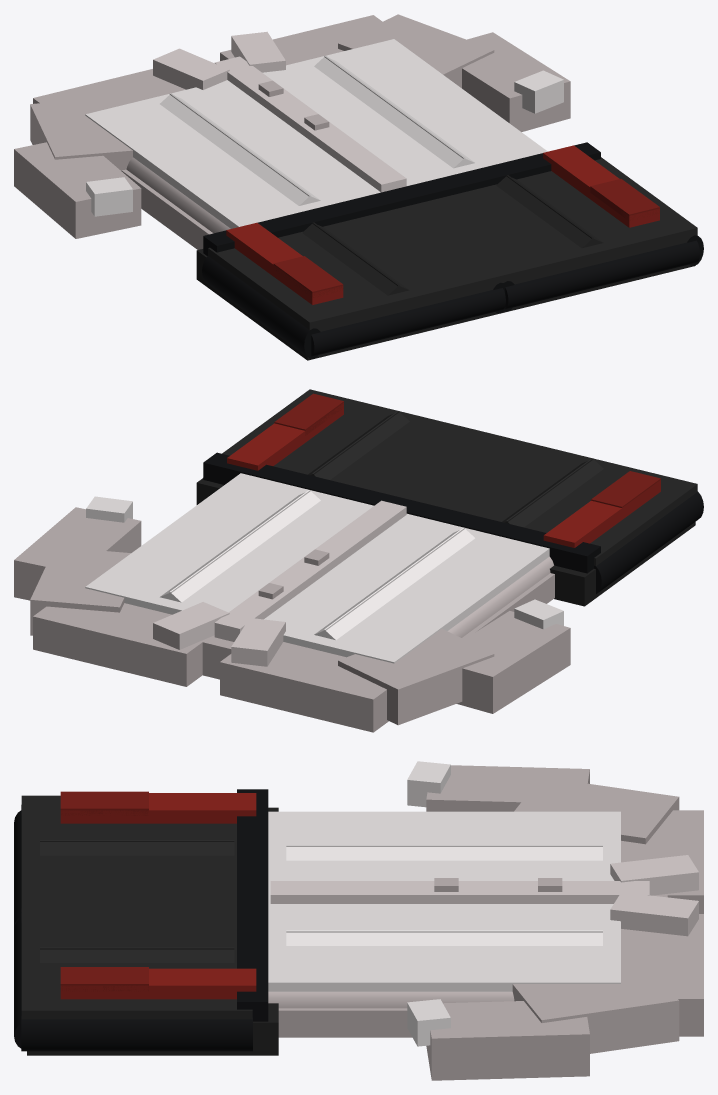
Rendered from CMU3DRMCMarineUniformDressGeneralWorldCloud.glb.
3 views of the same model, one above another, from view 1: azimuth 30°, elevation 25°; view 2: azimuth 150°, elevation 25°; view 3: azimuth 270°, elevation 25° (orthographic). The views are drawn at different scales.
Parts seen in each view (by area): view 1: left white dress shirt front continuous cloth panel, right white dress shirt front continuous cloth panel, left black folded dress trousers continuous cloth panel, right black folded dress trousers continuous cloth panel, left short white sleeve, dress trousers horizontal waist seam, right short white sleeve, white dress shirt center placket, left dress shoulder attachment, left black folded dress trousers lower folded edge, right black folded dress trousers lower folded edge, right dress shoulder attachment (+20 smaller); view 2: left white dress shirt front continuous cloth panel, right white dress shirt front continuous cloth panel, left black folded dress trousers continuous cloth panel, right black folded dress trousers continuous cloth panel, dress left shoulder yoke, dress right shoulder yoke, left short white sleeve, left dress shoulder attachment, dress trousers horizontal waist seam, white dress shirt center placket, right short white sleeve, right dress shoulder attachment (+19 smaller); view 3: right white dress shirt front continuous cloth panel, left white dress shirt front continuous cloth panel, right black folded dress trousers continuous cloth panel, left black folded dress trousers continuous cloth panel, right short white sleeve, right dress shoulder attachment, white dress shirt center placket, right black folded dress trousers right turned edge, dress trousers horizontal waist seam, left dress shoulder attachment, right white dress shirt front right shallow folded fabric, dress right shoulder yoke (+20 smaller).
Part boxes in pixels (<box>): left white dress shirt front continuous cloth panel: <box>85,80,380,228</box>; right white dress shirt front continuous cloth panel: <box>262,39,547,185</box>; left black folded dress trousers continuous cloth panel: <box>208,206,503,331</box>; right black folded dress trousers continuous cloth panel: <box>409,157,697,284</box>; left short white sleeve: <box>14,142,141,238</box>; dress trousers horizontal waist seam: <box>203,142,600,255</box>; right short white sleeve: <box>462,32,570,131</box>; white dress shirt center placket: <box>215,56,406,192</box>; left dress shoulder attachment: <box>30,96,132,170</box>; left black folded dress trousers lower folded edge: <box>311,288,505,356</box>; right black folded dress trousers lower folded edge: <box>505,240,699,308</box>; right dress shoulder attachment: <box>338,14,494,88</box>; left white dress shirt front continuous cloth panel: <box>264,513,549,663</box>; right white dress shirt front continuous cloth panel: <box>85,473,373,614</box>; left black folded dress trousers continuous cloth panel: <box>416,436,697,565</box>; right black folded dress trousers continuous cloth panel: <box>222,389,503,500</box>; dress left shoulder yoke: <box>220,642,388,732</box>; dress right shoulder yoke: <box>33,603,202,686</box>; left short white sleeve: <box>456,611,570,713</box>; left dress shoulder attachment: <box>338,629,494,725</box>; dress trousers horizontal waist seam: <box>203,452,600,573</box>; white dress shirt center placket: <box>214,500,406,641</box>; right short white sleeve: <box>14,507,141,600</box>; right dress shoulder attachment: <box>30,546,130,635</box>; right white dress shirt front continuous cloth panel: <box>268,897,620,991</box>; left white dress shirt front continuous cloth panel: <box>268,811,620,896</box>; right black folded dress trousers continuous cloth panel: <box>21,903,252,1019</box>; left black folded dress trousers continuous cloth panel: <box>21,795,236,903</box>; right short white sleeve: <box>426,1001,589,1080</box>; right dress shoulder attachment: <box>512,959,679,1053</box>; white dress shirt center placket: <box>270,881,649,903</box>; right black folded dress trousers right turned edge: <box>21,1015,252,1051</box>; dress trousers horizontal waist seam: <box>237,789,268,1021</box>; left dress shoulder attachment: <box>514,777,679,844</box>; right white dress shirt front right shallow folded fabric: <box>286,930,602,945</box>; dress right shoulder yoke: <box>621,914,703,1036</box>.
Bounding box in the file's own units: 0.3905 × 0.044 × 0.4156.
